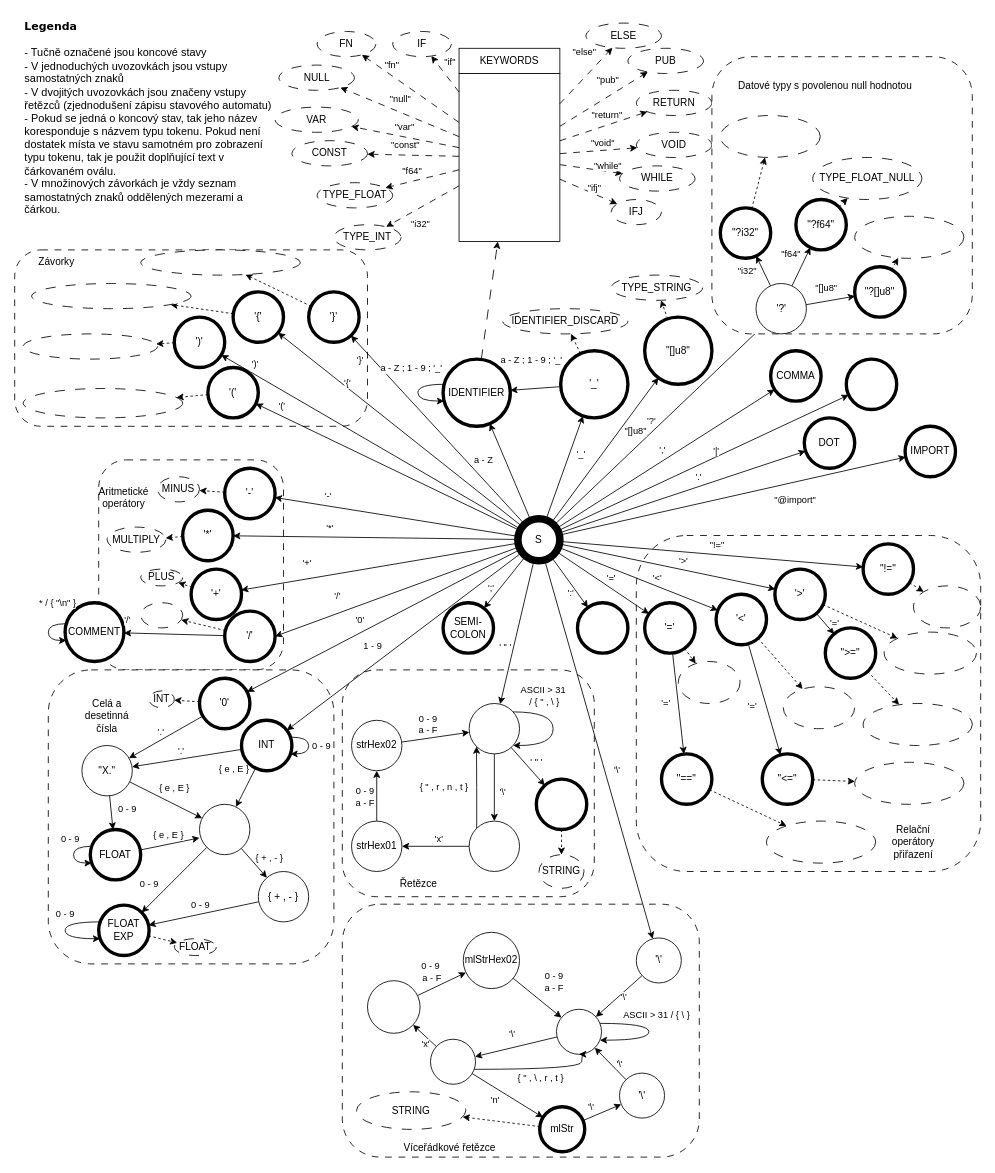
This 995x1173 diagram has some shape labels left out. Here are the shapes that lost their labels. From the top down, the centre of each, then its label:
point 769,136: TYPE_INT_NULL
point 509,157: i32 f64 const var null fn else if pub return void while ifj
point 909,236: TYPE_STRING_NULL
point 220,262: BRACKET_RIGHT_CURLY
point 111,296: BRACKET_LEFT_CURLY
point 90,346: BRACKET_RIGHT_SIMPLE
point 102,403: BRACKET_LEFT_SIMPLE
point 871,384: PIPE
point 161,615: DIVIDE
point 947,606: NOT_EQUAL
point 602,627: COLON
point 929,652: GREATER_THAN
point 708,682: ASSIGN
point 818,707: LESS_THAN
point 917,724: GREATER_THAN_EQUAL
point 494,728: str01
point 909,782: LESS_THAN_EQUAL
point 561,804: str
point 224,829: EXP
point 494,846: str02
point 821,841: EQUAL
point 393,1006: mlStrHex01
point 579,1031: mlStr01
point 453,1061: mlStr02
